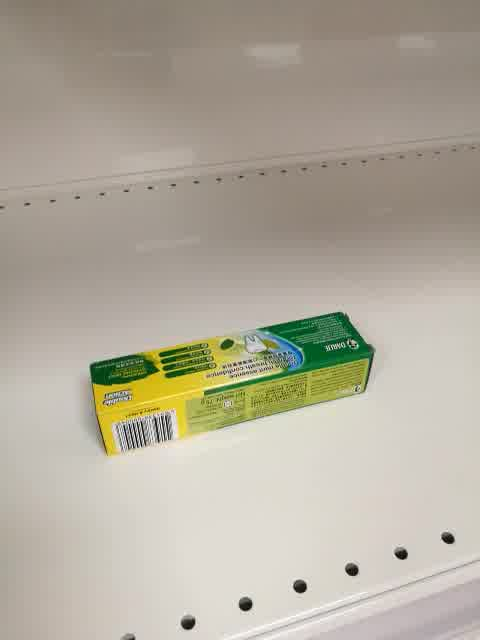toothpaste: (90, 310, 374, 458)
